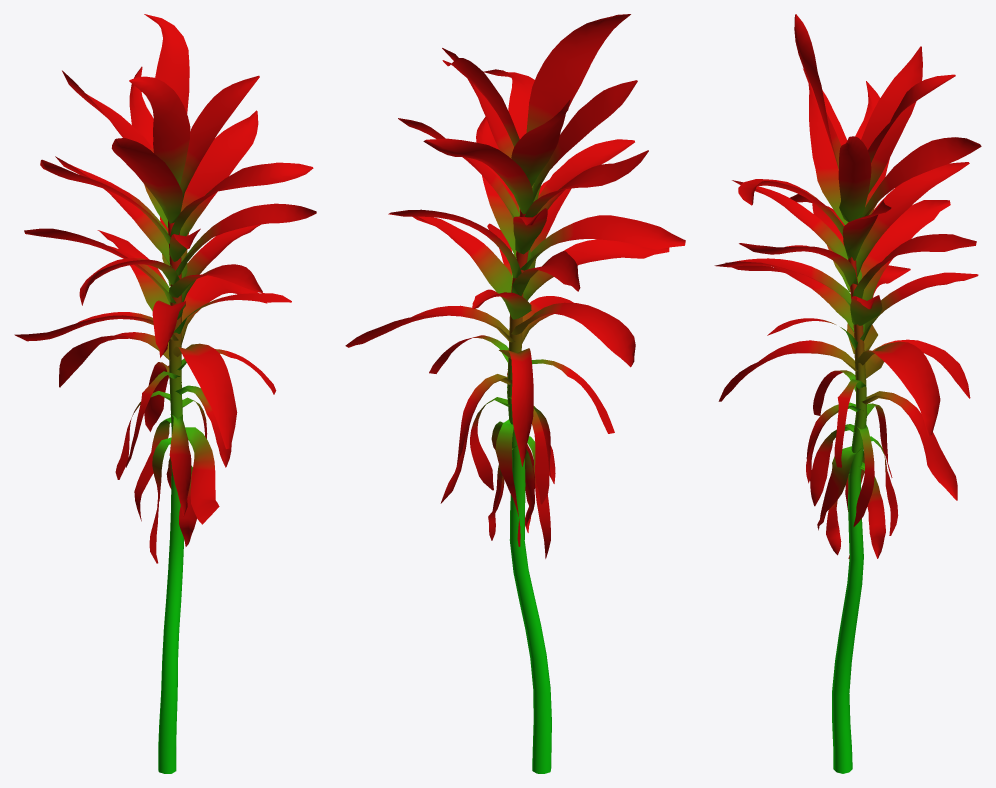
Rendered from Dragon Tree_LOD0_Var1_sikoN.fbx.
3 renders of one model, left to right at view 1: azimuth 30°, elevation 25°; view 2: azimuth 150°, elevation 25°; view 3: azimuth 270°, elevation 25°, orthographic. The views are drawn at different scales.
Visible parts, largest first — view 1: _e452_Var1_LOD0; view 2: _e452_Var1_LOD0; view 3: _e452_Var1_LOD0.
Part boxes in pixels (bbox=[...]): _e452_Var1_LOD0: bbox=[14, 14, 316, 773]; _e452_Var1_LOD0: bbox=[345, 14, 685, 773]; _e452_Var1_LOD0: bbox=[714, 14, 981, 773].
Size of the model in its own units: 44.72 by 117 by 39.14.
